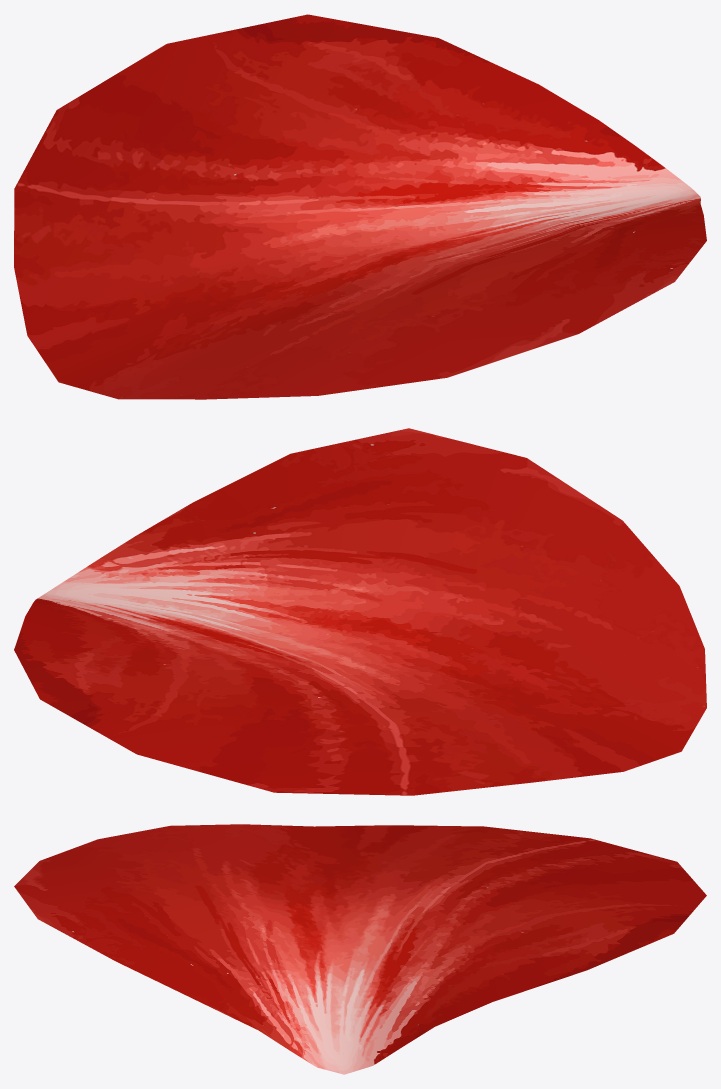
Rendered from CamelliaPetal_1.fbx.
3 views of the same model, one above another, from view 1: azimuth 30°, elevation 25°; view 2: azimuth 150°, elevation 25°; view 3: azimuth 270°, elevation 25° (orthographic). The views are drawn at different scales.
Visible parts, largest first — view 1: Camellia_petal1; view 2: Camellia_petal1; view 3: Camellia_petal1.
Boxes of the visible parts, bbox=[...] form: Camellia_petal1: bbox=[14, 14, 706, 399]; Camellia_petal1: bbox=[14, 428, 706, 795]; Camellia_petal1: bbox=[14, 824, 706, 1074].
Bounding box in the file's own units: 97.12 × 15.75 × 106.
